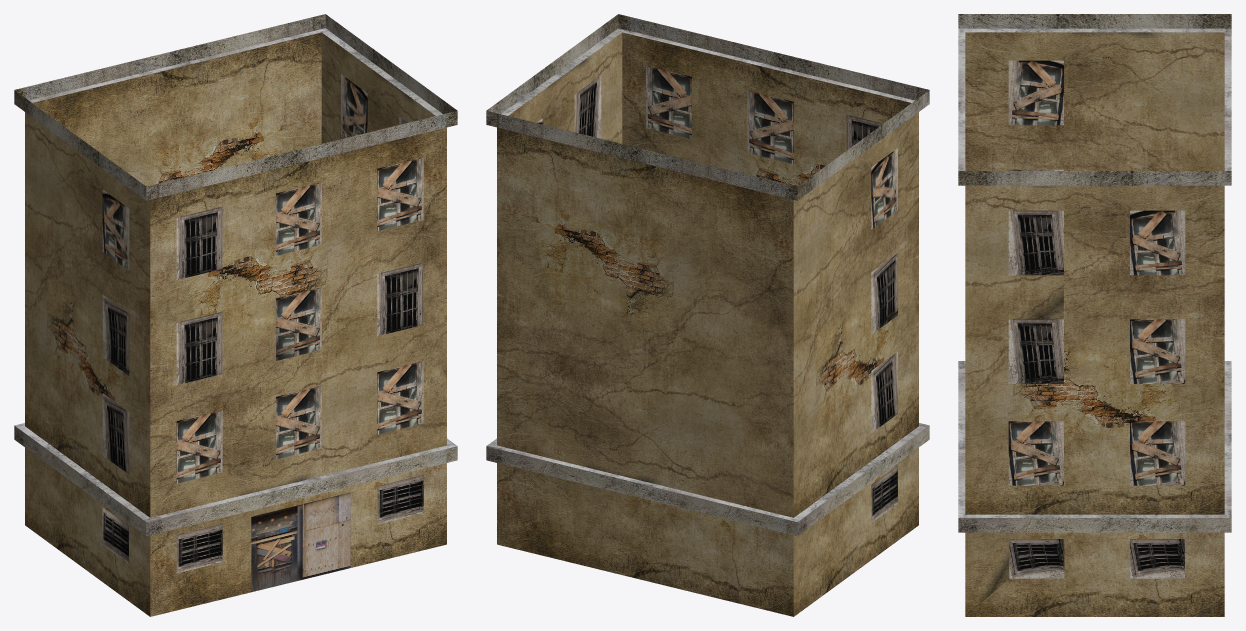
File: Big_house_LOD1.FBX
3 views of the same model, side by side, from view 1: azimuth 30°, elevation 25°; view 2: azimuth 150°, elevation 25°; view 3: azimuth 270°, elevation 25° (orthographic). The views are drawn at different scales.
Parts seen in each view (by area): view 1: B01_LOD1; view 2: B01_LOD1; view 3: B01_LOD1.
Boxes of the visible parts, x1,y1,x2,y2 form: B01_LOD1: (14,14,457,616); B01_LOD1: (486,14,929,616); B01_LOD1: (958,14,1231,616).
Bounding box in the file's own units: 89.78 × 120 × 66.
Materials: 1 (1 with a texture image).
